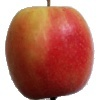apple: (5, 6, 94, 100)
